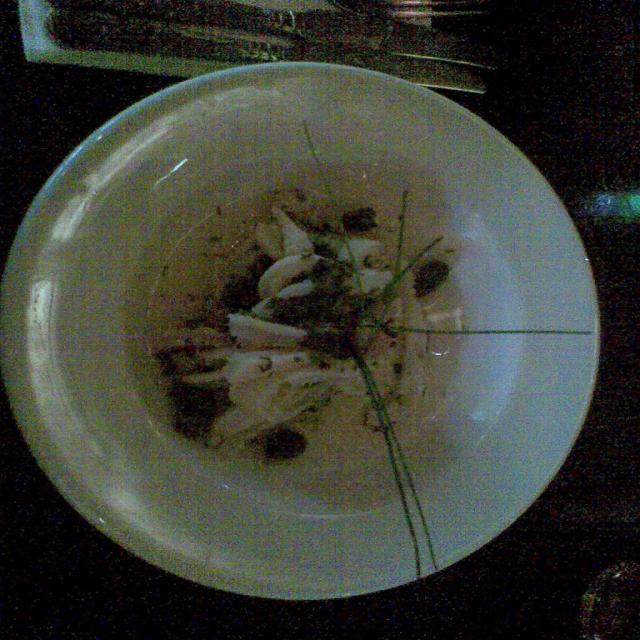ceramic plate: (22, 61, 586, 606)
